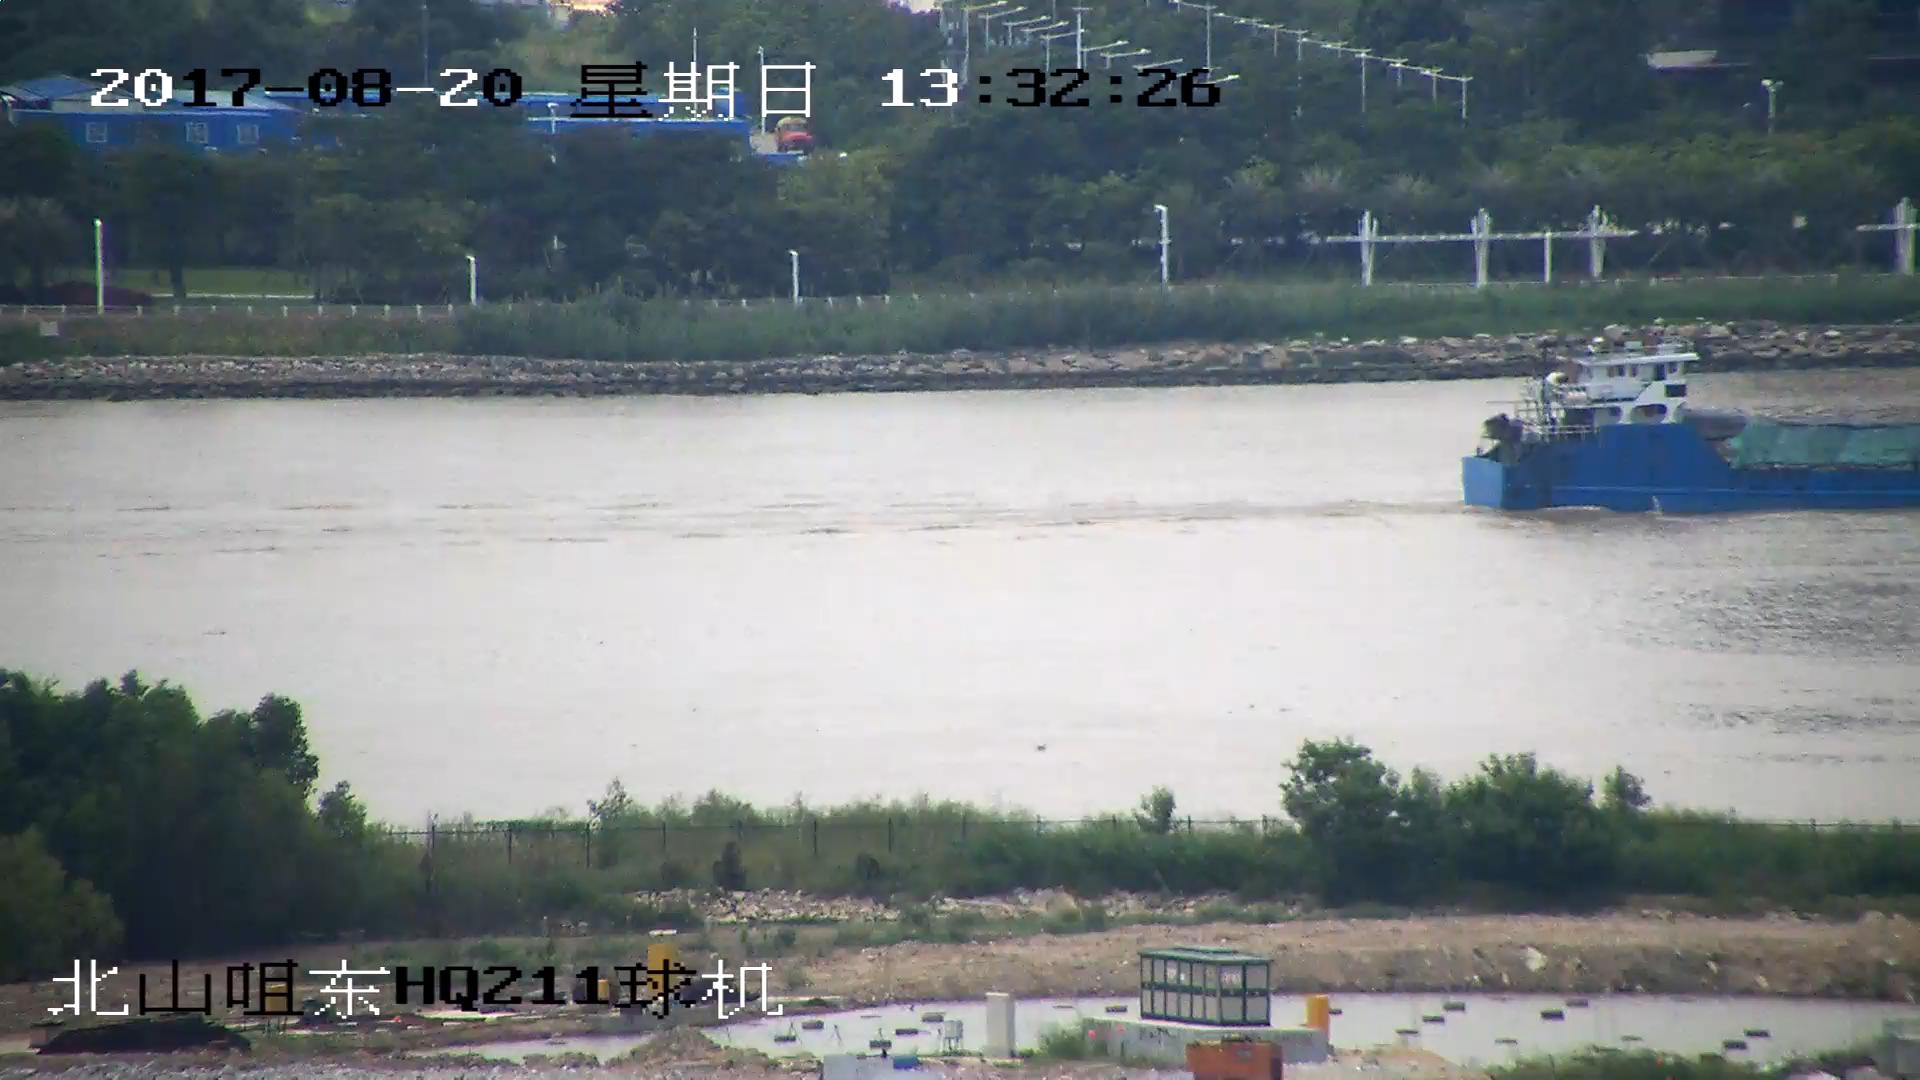general cargo ship: (1459, 356, 1920, 512)
